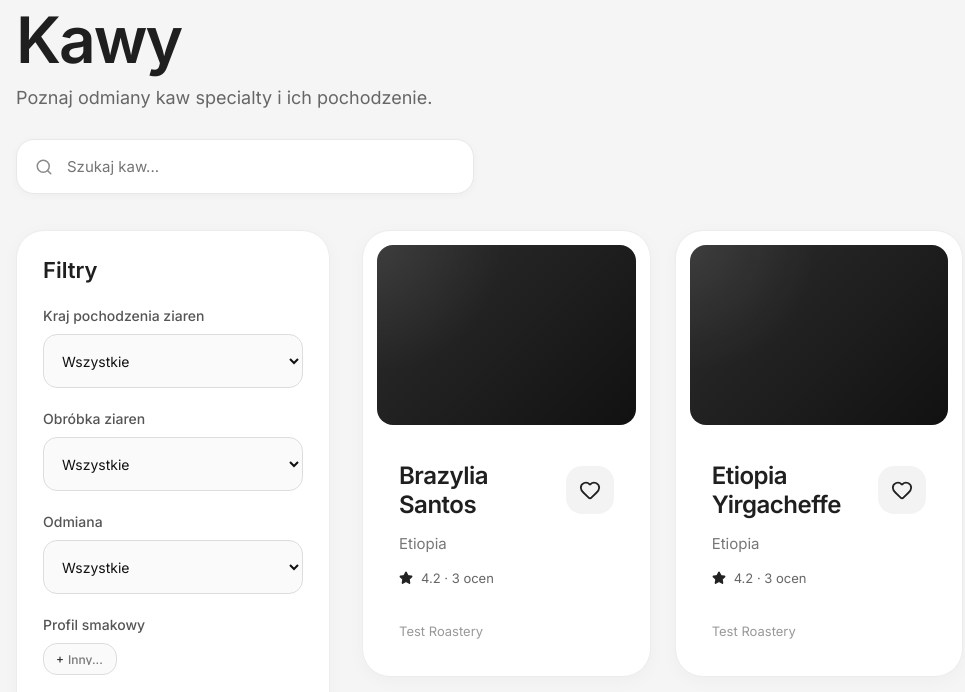
Test: Coffees › filters coffees by search query
This screenshot has width=965, height=692.
Check: the heading "Etiopia Yirgacheffe" is shown, box x1=712 y1=461 x2=862 y2=519
Step 1. Type "Brazylia" into the field with placeholder "Szukaj kaw..." → (260, 166), box x1=65 y1=156 x2=455 y2=177
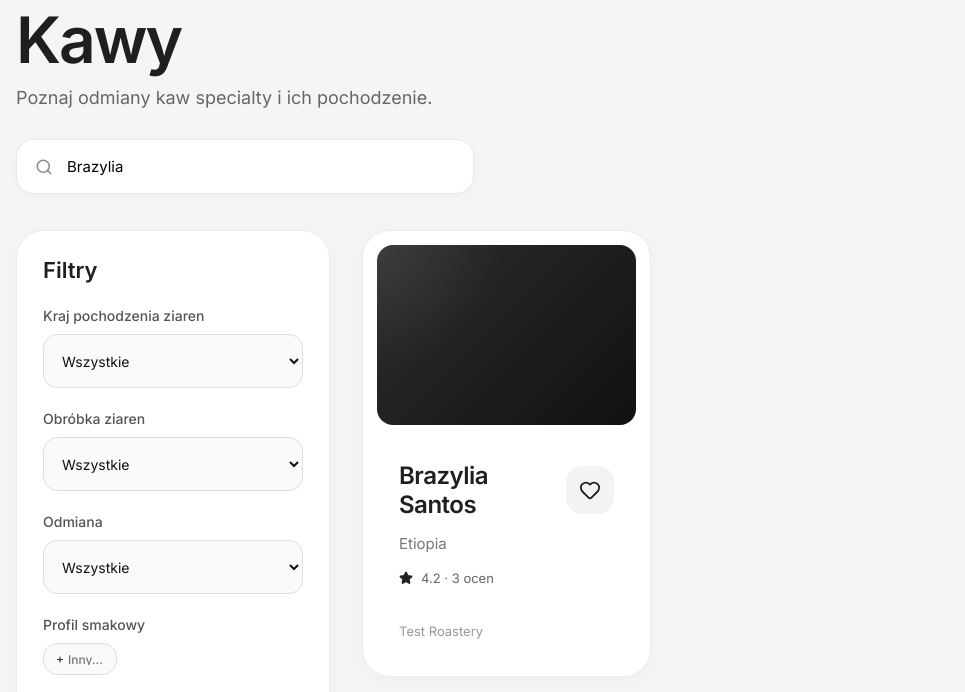
Check: the heading "Brazylia Santos" is shown, box x1=399 y1=461 x2=488 y2=519
Check: the heading "Etiopia Yirgacheffe" is gone
